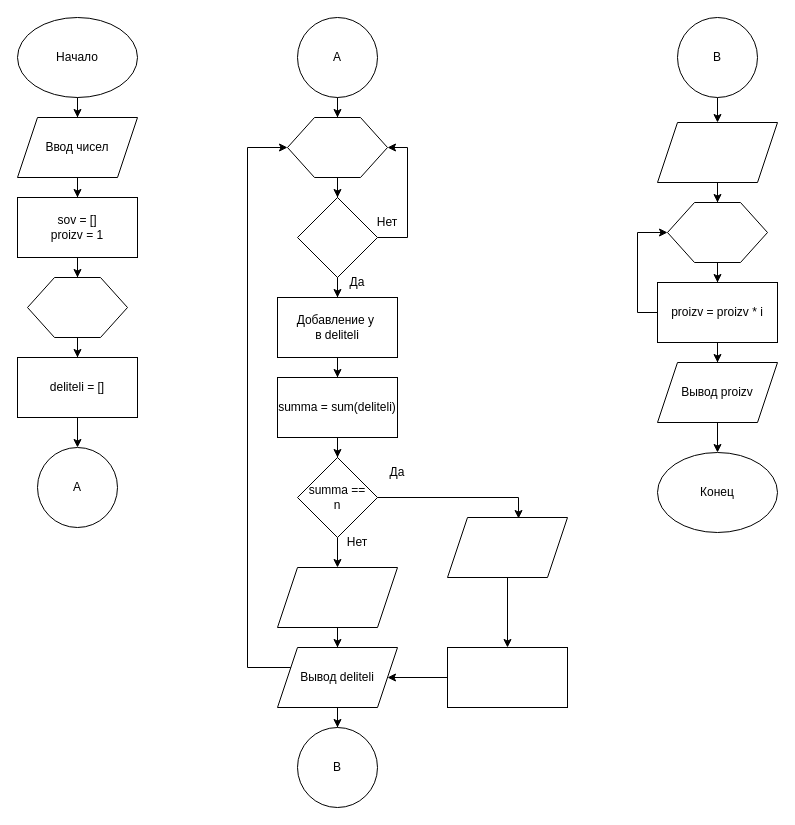
This 795x825 diagram has some shape labels left out. Here are the shapes that lost their labels. From the top down, the centre of each, then its label:
At point (337, 147): "y от 1 до n".
At point (717, 152): "Вывод sov".
At point (337, 237): "n % y == 0".
At point (717, 232): "Перебор i в sov".
At point (77, 307): "Перебор n в x".
At point (507, 547): "Вывод n совершенное".
At point (337, 597): "Вывод n несовершенное".
At point (507, 677): "добавление n в sov".
